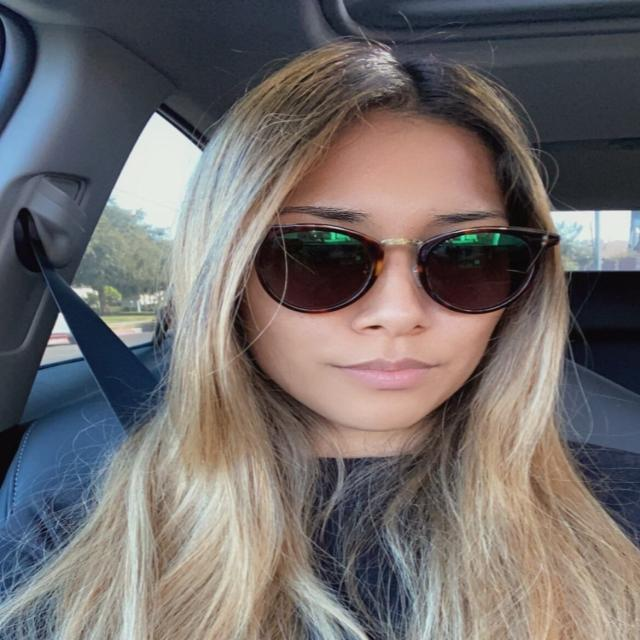2_gafas: (250, 222, 561, 316)
